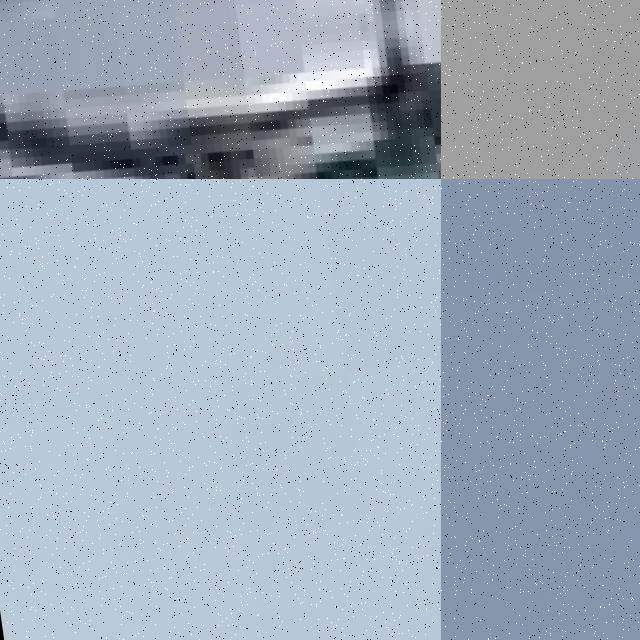drone: (0, 0, 441, 179)
